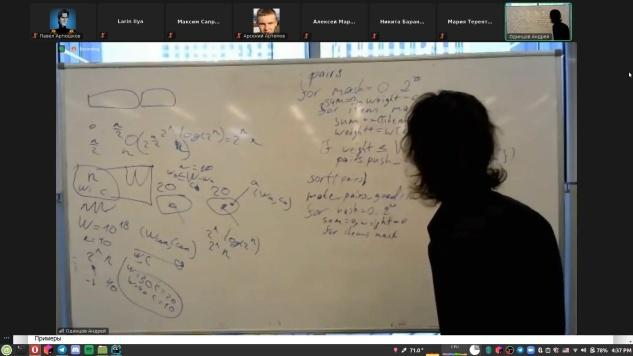Whiteboard: (57, 48, 564, 339)
